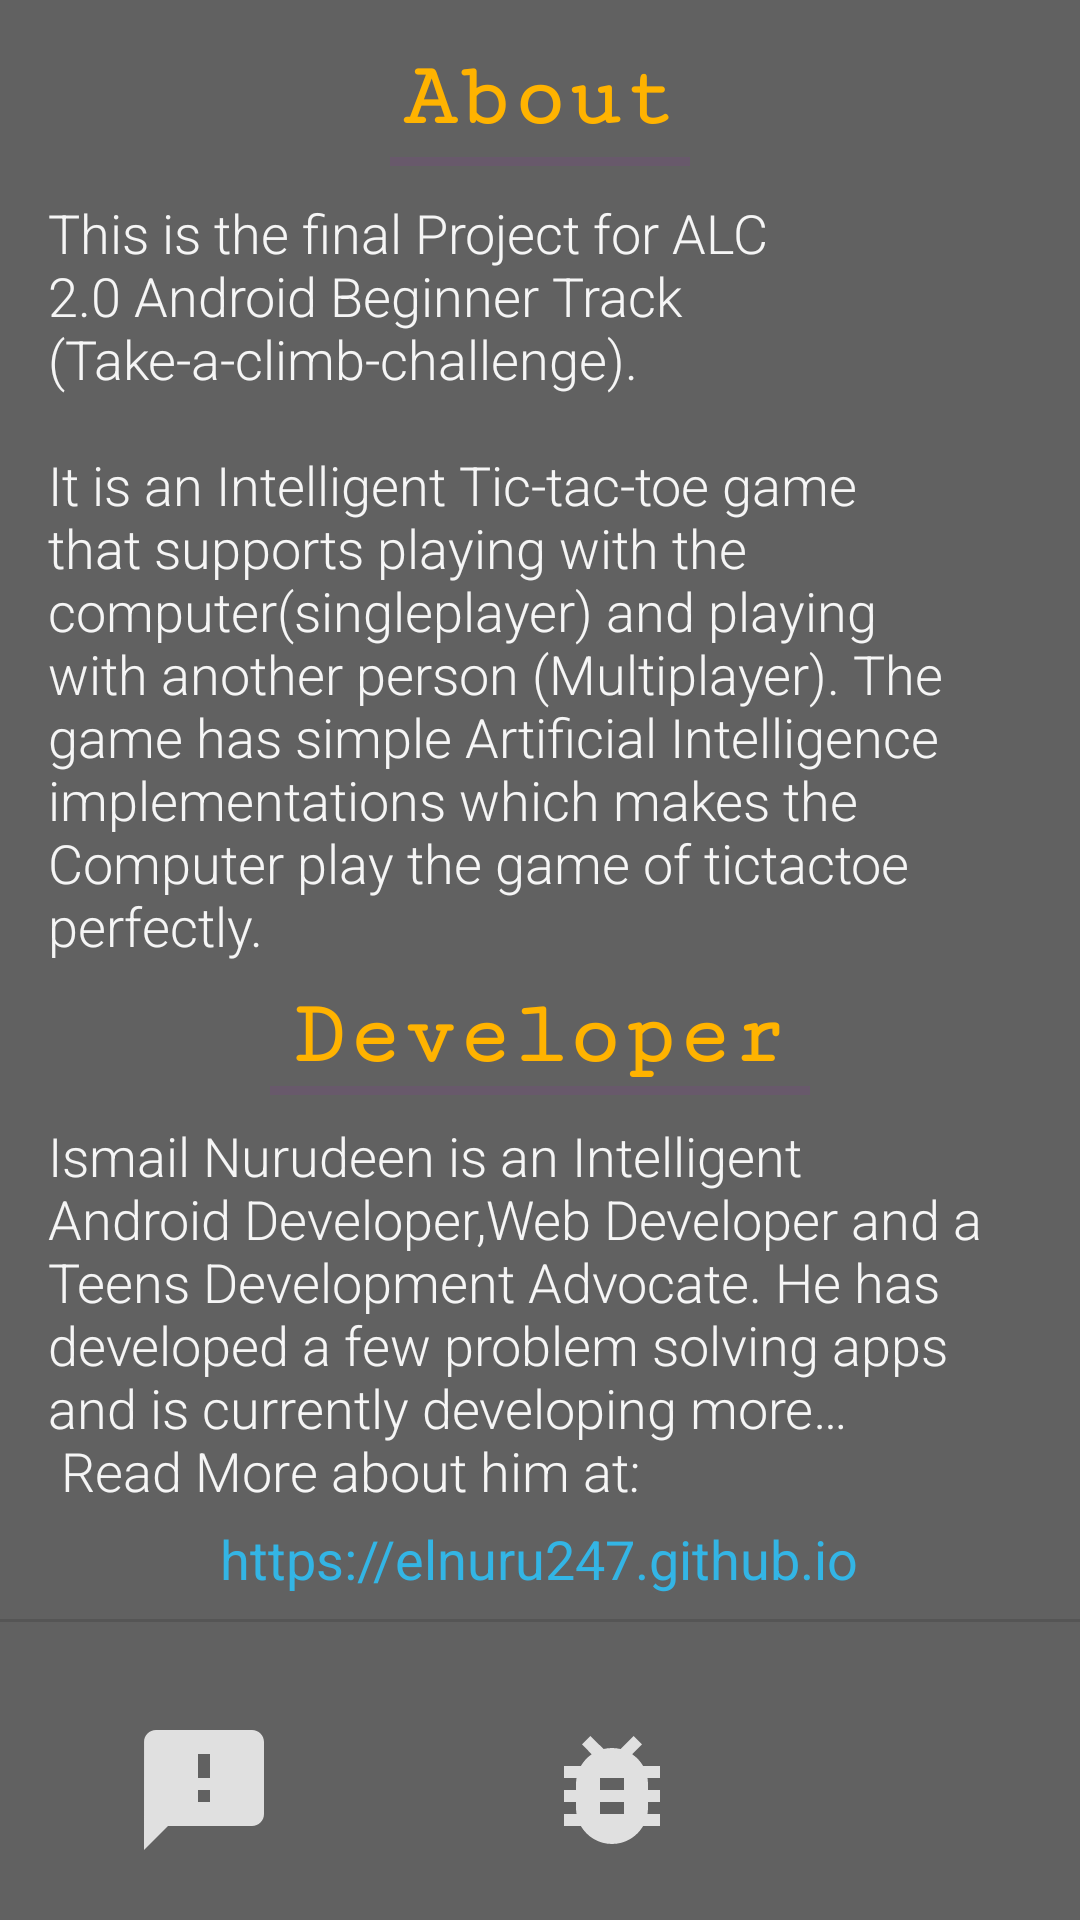

Screen size 1080x1920. Icon name, then its box in pixels as (x1, y1, x2, y2):
bug report: (564, 1736, 660, 1844)
feedback: (144, 1730, 264, 1850)
